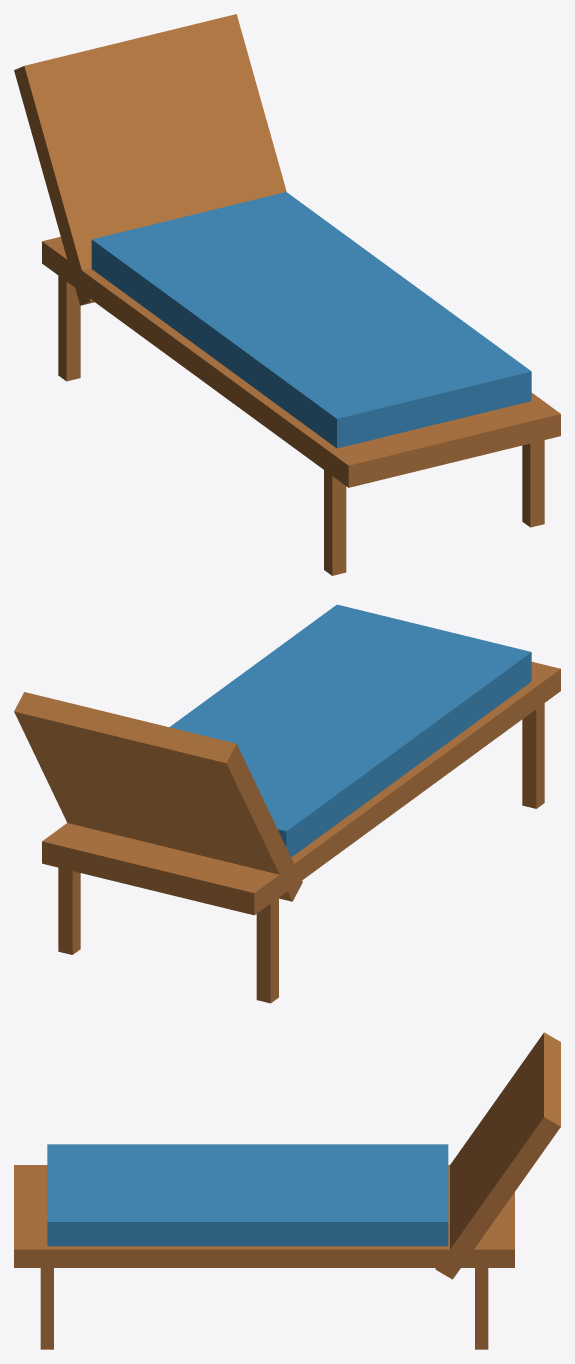
The model's file is patio_lounge_chair.glb.
3 renders of one model, top to bottom at view 1: azimuth 30°, elevation 25°; view 2: azimuth 150°, elevation 25°; view 3: azimuth 270°, elevation 25°, orthographic. The views are drawn at different scales.
Parts seen in each view (by area): view 1: lounge_chair; view 2: lounge_chair; view 3: lounge_chair.
Part boxes in pixels (x1,y1,x2,y2): lounge_chair: (14,14,560,575); lounge_chair: (14,604,560,1003); lounge_chair: (14,1032,560,1349).
Size of the model in its own units: 0.6 by 0.7687 by 1.64.
